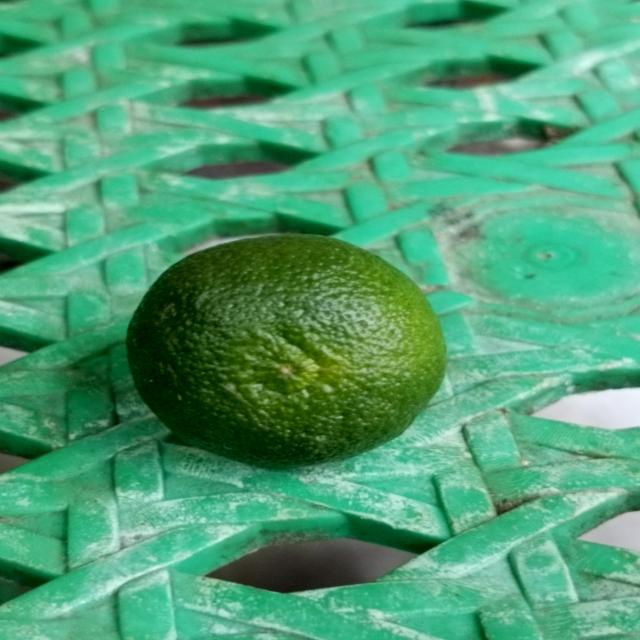heathy: (122, 232, 448, 457)
